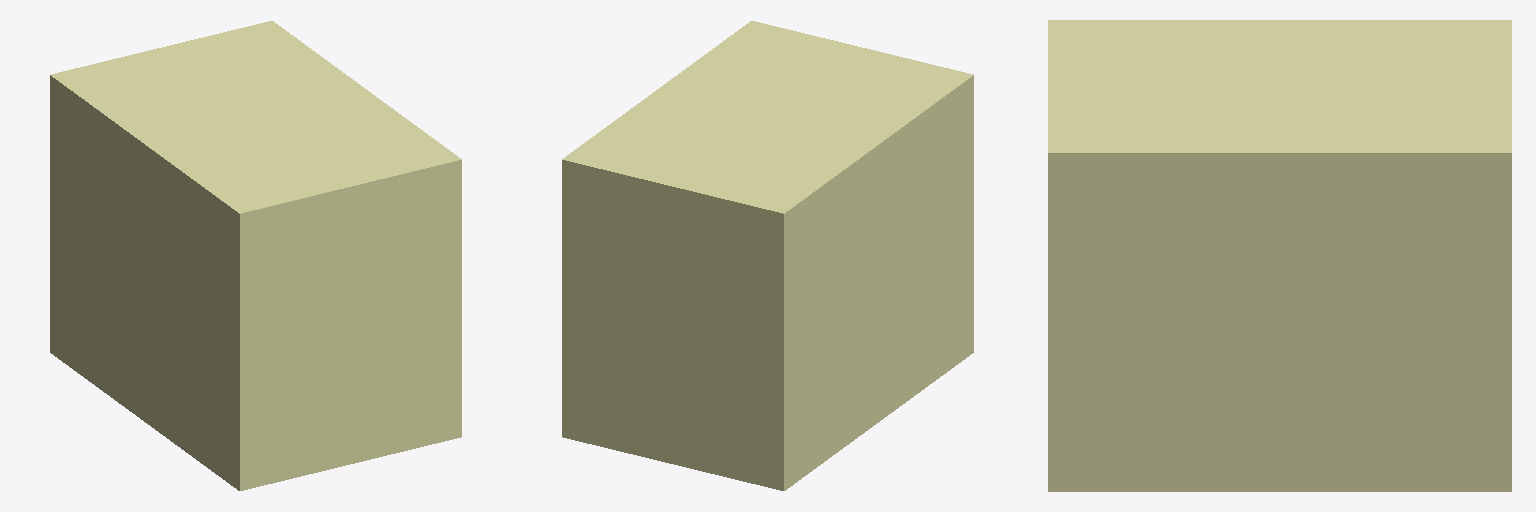
robot.urdf — box.urdf:
<?xml version="1.0" ?>
<robot name="box.urdf">
  <link name="baseLink">
    <contact>
      <lateral_friction value="1.0"/>
      <rolling_friction value="0.0001"/>
      <inertia_scaling value="3.0"/>
    </contact>
    <inertial>
      <origin rpy="0 0 0" xyz="0 0 0"/>
       <mass value="0.1"/>
       <inertia ixx="1" ixy="0" ixz="0" iyy="1" iyz="0" izz="1"/>
    </inertial>
    <visual>
      <origin rpy="0 0 0" xyz="0 0 0"/>
      <geometry>
        <!-- <box size="0.23399999999999999 0.34600000000000003 0.27899999999999997"/> -->
        <mesh filename="box/box.obj" scale="0.23399999999999999 0.34600000000000003 0.27899999999999997"/>
      </geometry>
      <material name="white">
        <color rgba="0.9 0.9 0.7 1"/>
      </material>
    </visual>
    <collision>
      <origin rpy="0 0 0" xyz="0 0 0"/>
      <geometry>
        <mesh filename="box/box.obj" scale="0.23399999999999999 0.34600000000000003 0.27899999999999997"/>
	 	    <!-- <box size="0.23399999999999999 0.34600000000000003 0.27899999999999997"/> -->
      </geometry>
    </collision>
  </link>
</robot>

--- Render facts (derived) ---
Views: 3 orthographic renders of the robot side by side, from view 1: azimuth 30°, elevation 25°; view 2: azimuth 150°, elevation 25°; view 3: azimuth 270°, elevation 25°.
Robot: box.urdf — 1 links, 0 joints (none); root link baseLink; default pose: every joint at zero.
Links seen in each view (by area): view 1: baseLink; view 2: baseLink; view 3: baseLink.
Link boxes in pixels (x1,y1,x2,y2): baseLink: [50, 21, 461, 490]; baseLink: [562, 21, 973, 490]; baseLink: [1048, 20, 1511, 491].
Size in the robot's own frame: 0.234 by 0.346 by 0.279 metres.
Meshes: 1 distinct files referenced, 1 mesh visuals loaded (1 OBJ).
